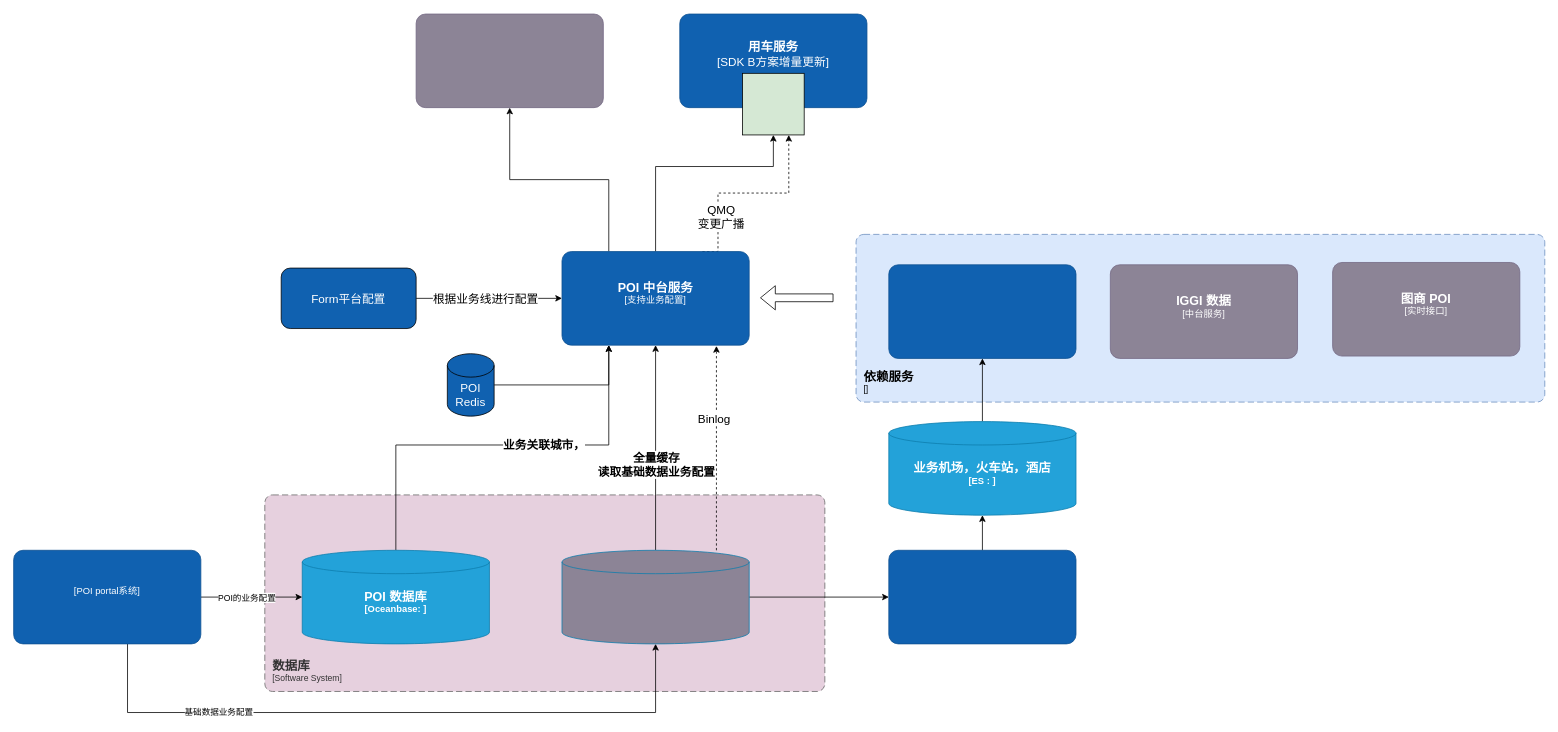
The diagram is 1558 pixels wide and 732 high, and some of its shapes have lost their labels. The shapes that lost their labels are listed below. From the top down, each one's centre as x and y in pixels, then its label:
At [509,60]: "租车服务 []".
At [773,104]: "POI SDK".
At [982,311]: "POI 搜索服务 [酒店，火车站，机场]".
At [655,597]: "机场，火车站，酒店 [Mysql: ]".
At [982,597]: "POI JOB服务 []".
